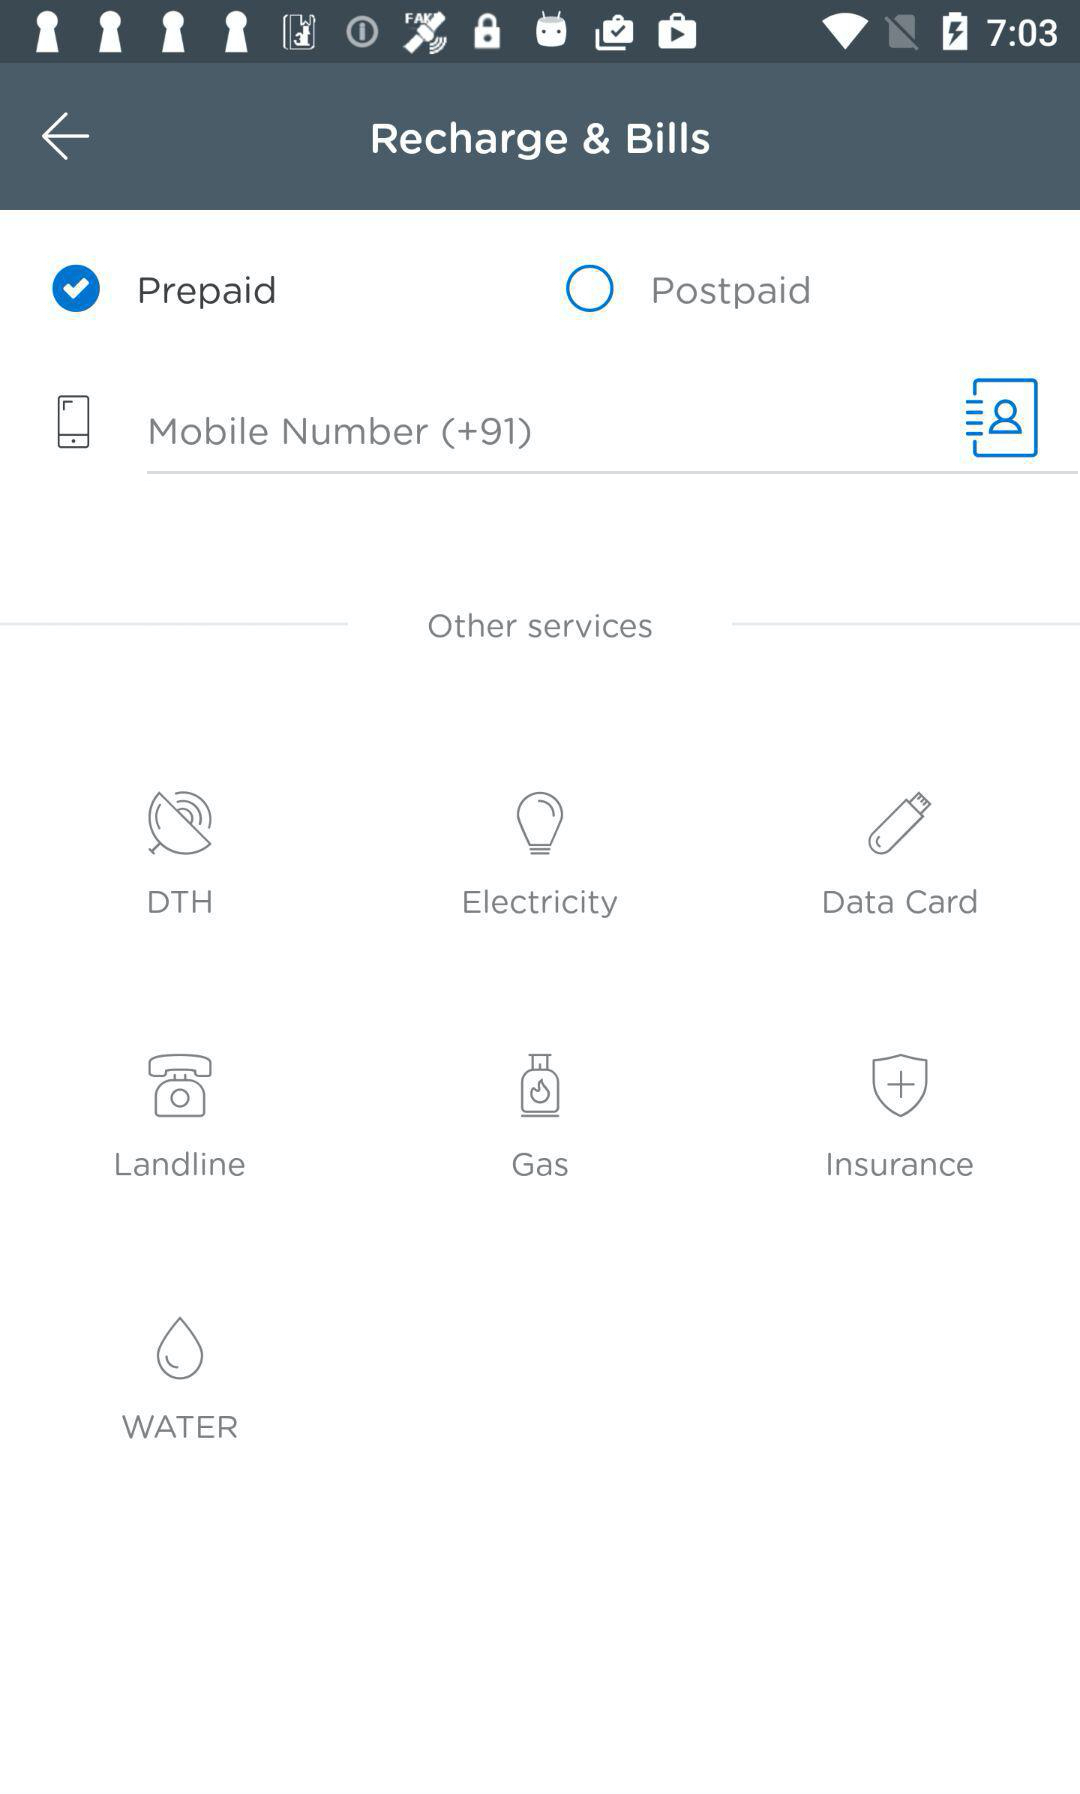CheckedTextView: (564, 263, 811, 315), (53, 263, 278, 314)
EditText: (147, 378, 1079, 475)
Icon: (965, 378, 1039, 459), (156, 1315, 206, 1381), (42, 111, 91, 163)
Image: (149, 789, 214, 857), (867, 791, 933, 856), (149, 1055, 213, 1117), (872, 1053, 929, 1119), (516, 791, 565, 856), (520, 1053, 562, 1119), (56, 395, 91, 450)
Text: (372, 120, 711, 161), (150, 418, 533, 451), (428, 613, 653, 642), (653, 276, 810, 311), (462, 888, 619, 920), (138, 276, 275, 311), (822, 888, 978, 918), (826, 1152, 974, 1178), (117, 1151, 246, 1178), (120, 1413, 241, 1440), (149, 889, 213, 916), (512, 1151, 569, 1179)
UpperTaskBar: (1, 1, 1080, 64)
